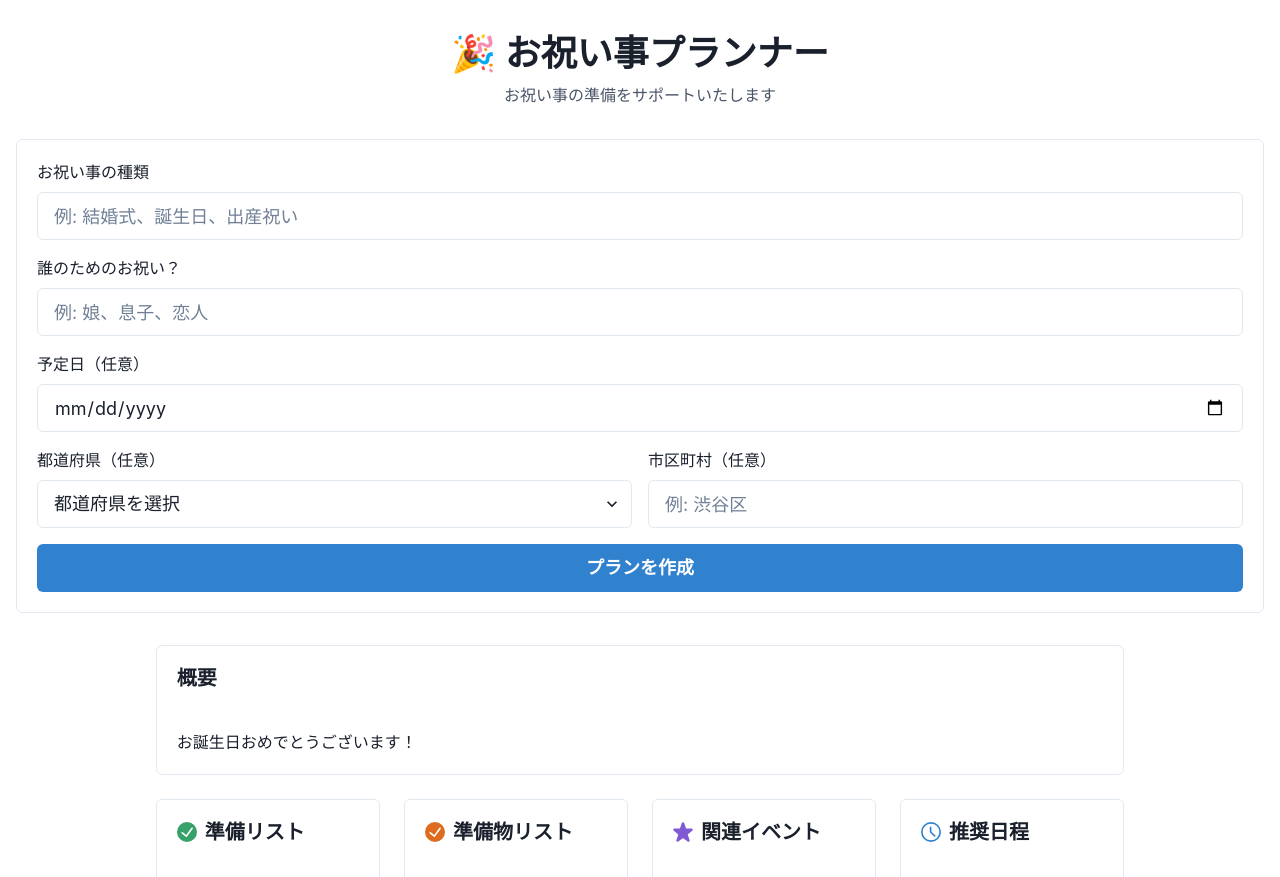
Test: お祝い事入力画面 › お祝い事入力フォームは必須のエラーが表示されること
The width and height of the screenshot is (1280, 877).
Click the button "プランを作成" at {"x": 640, "y": 568}, box [37,544,1243,592]
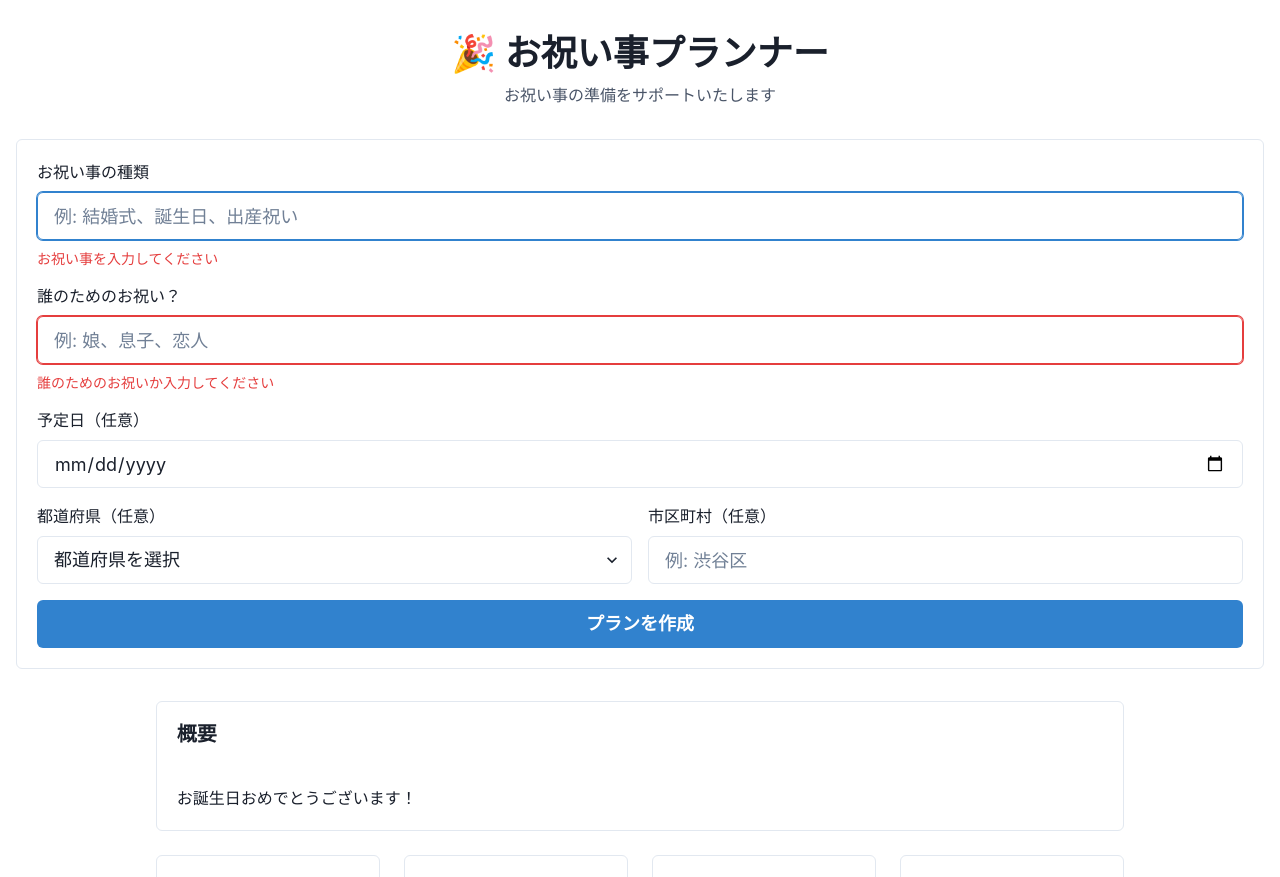
Expected: the text "お祝い事を入力してください" is shown, [37,250,218,267]
